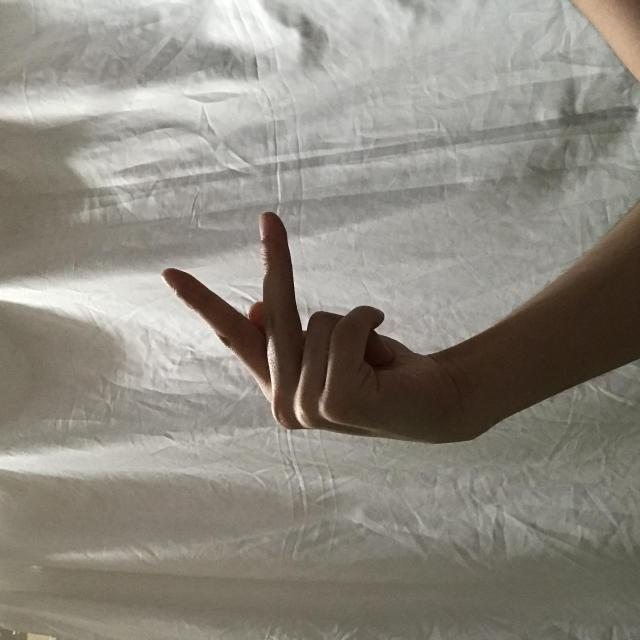K: (195, 161, 430, 456)
